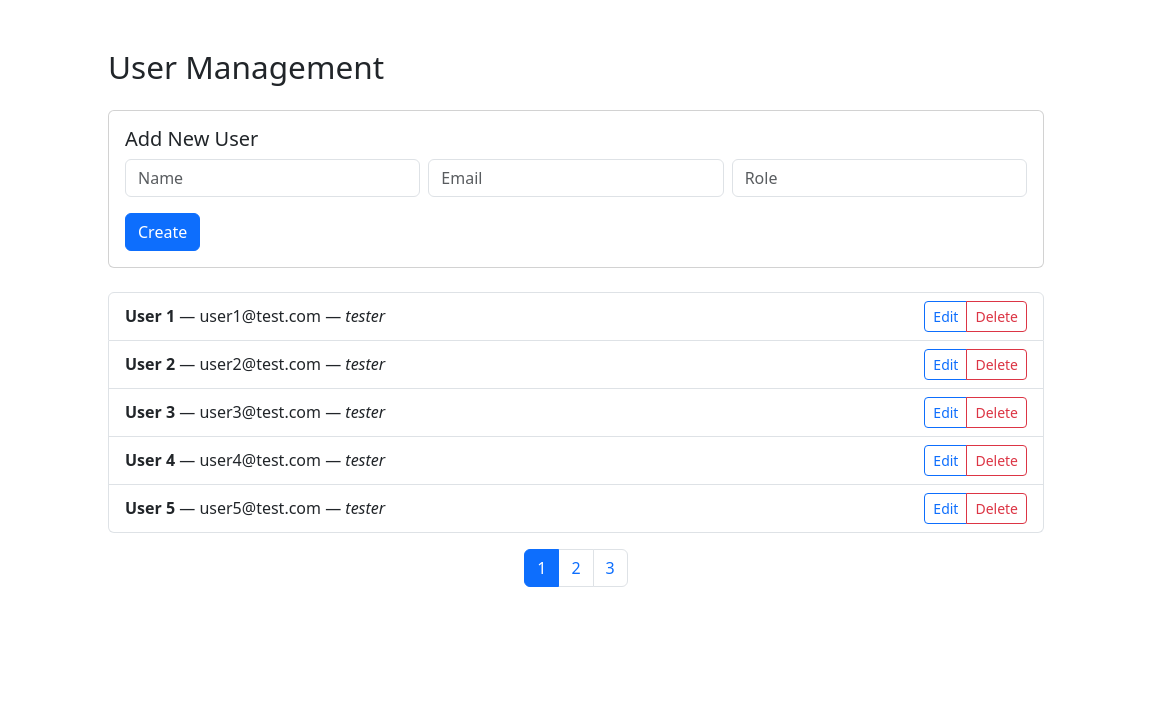
Test case: UserManagement component › opens confirmation modal when Delete button clicked
Click the button with aria-label "Delete user 1" at point(997, 316), box [966,301,1027,332]
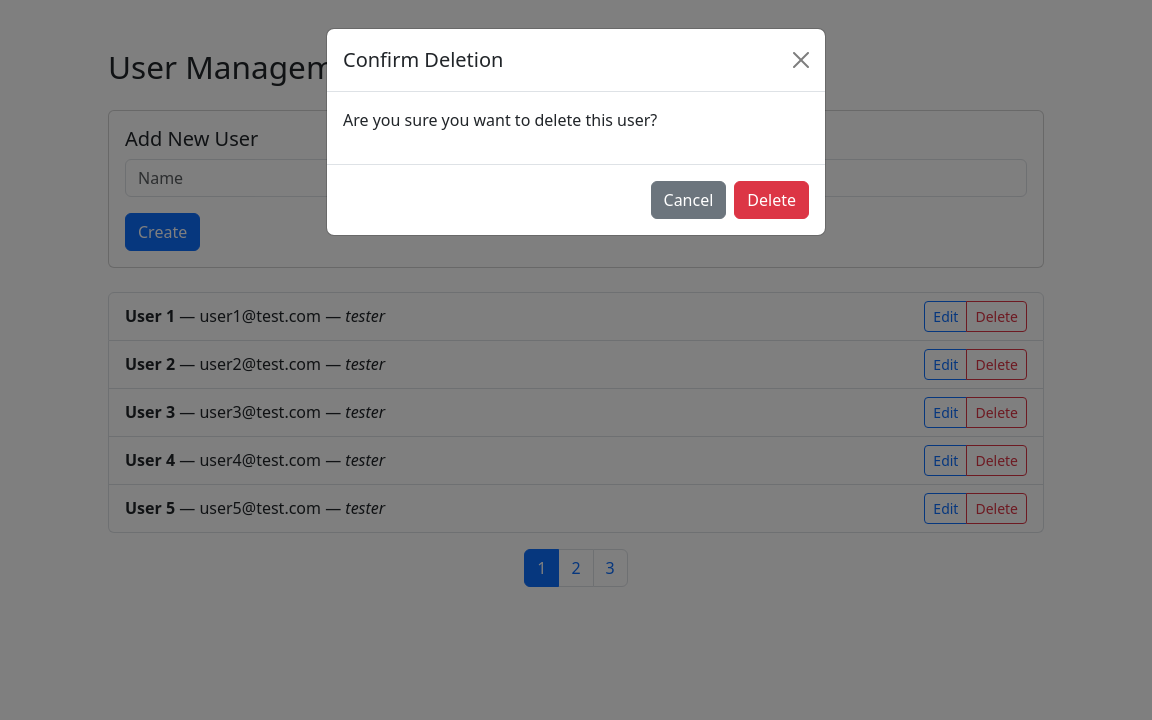
Check: the dialog is shown
Check: the button with aria-label "Confirm delete" is shown, box [734,181,809,219]
